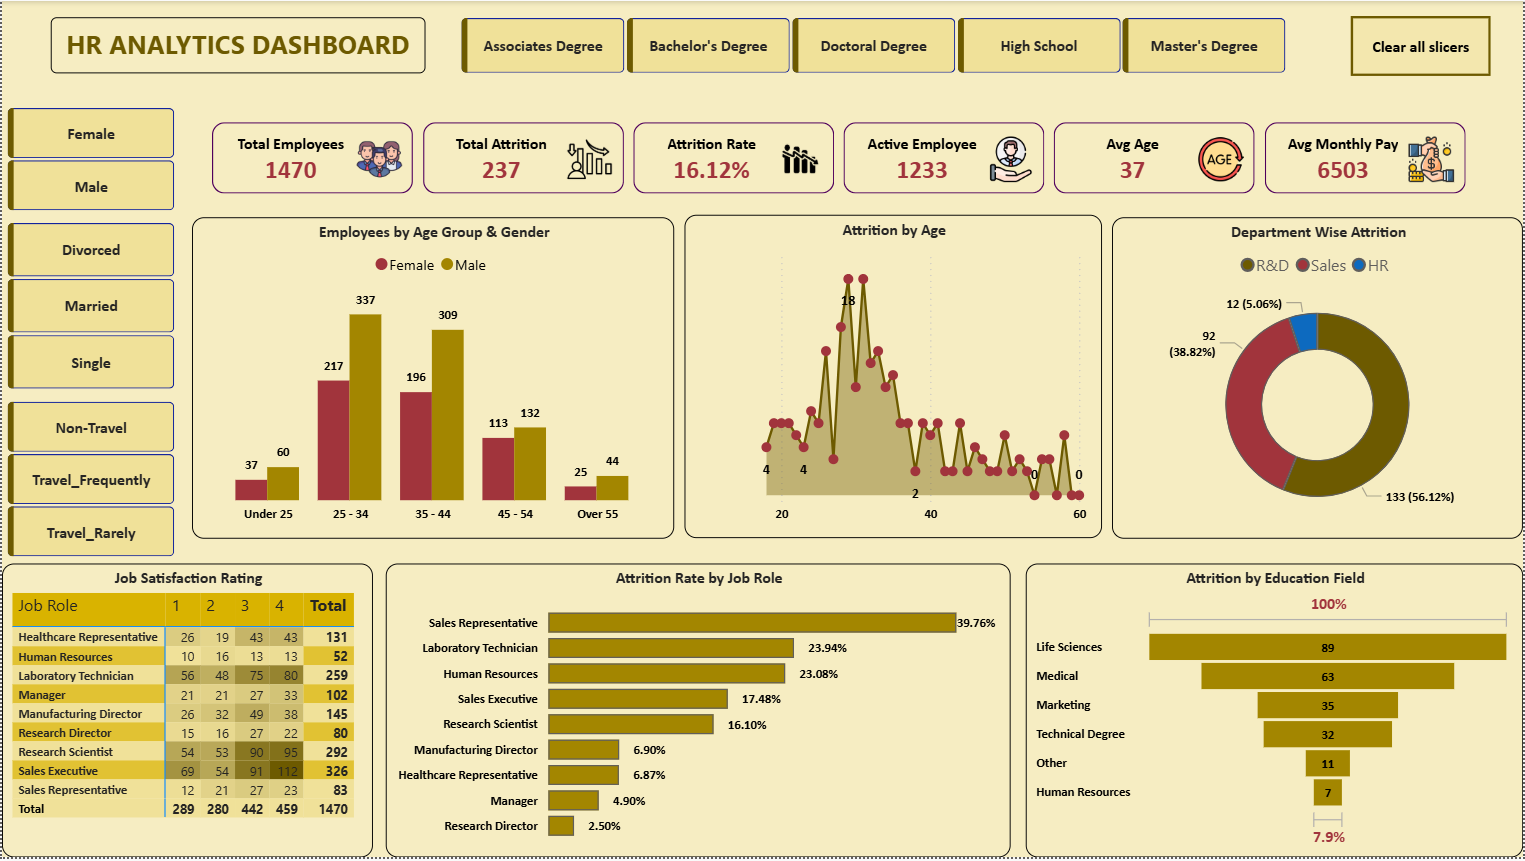

What the dashboard file says about the page in this screenshot:
{"tool":"powerbi","page":{"name":"Dashboard","canvas":[1280,720],"ordinal":0},"visuals":[{"type":"cardVisual","fields":{"Data":["HR data.Total Employees","HR data.Total Attrition","HR data.Attrition Rate","HR data.Active Employee","Avg(HR data.Age)","Avg(HR data.Monthly Income)"]},"box":[159.8,85.2,1092.4,94.6],"z":0},{"type":"clusteredColumnChart","title":"Employees by Age Group & Gender","fields":{"Category":["HR data.Age Group"],"Y":["HR data.Total Employees"],"Series":["HR data.Gender"]},"box":[159.8,181.9,405.8,270.2],"z":1000},{"type":"areaChart","title":"Attrition by Age","fields":{"Category":["HR data.Age"],"Y":["HR data.Total Attrition"]},"box":[574.1,179.8,351.2,272.3],"z":2000},{"type":"donutChart","title":"Department Wise Attrition","fields":{"Category":["HR data.Department"],"Y":["HR data.Total Attrition"]},"box":[933.6,181.9,345.9,270.2],"z":3000},{"type":"clusteredBarChart","fields":{"Category":["HR data.Job Role"],"Y":["HR data.Attrition Rate"]},"box":[322.8,473.1,525.7,247.1],"z":4000},{"type":"pivotTable","title":"Job Satisfaction Rating","fields":{"Rows":["HR data.Job Role"],"Columns":["HR data.Job Satisfaction"],"Values":["HR data.Total Employees"]},"box":[0,473.1,312.3,247.1],"z":5000},{"type":"funnel","title":"Attrition by Education Field","fields":{"Category":["HR data.Education Field"],"Y":["HR data.Total Attrition"]},"box":[861.1,473.1,418.5,247.1],"z":6000},{"type":"advancedSlicerVisual","fields":{"Values":["HR data.Gender"]},"box":[0,85.2,150.4,96.7],"z":7000},{"type":"advancedSlicerVisual","fields":{"Values":["HR data.Marital Status"]},"box":[0,181.9,150.4,150.4],"z":8000},{"type":"advancedSlicerVisual","fields":{"Values":["HR data.Business Travel"]},"box":[0,332.2,150.4,140.9],"z":9000},{"type":"advancedSlicerVisual","fields":{"Values":["HR data.Education"]},"box":[381.7,9.5,705.5,56.8],"z":10000},{"type":"actionButton","box":[1134.5,12.6,117.8,50.5],"z":11000},{"type":"textbox","box":[41,13.7,315.4,47.3],"z":12000}]}

Visuals, with their boxes in screenshot pixels (x1, y1, x2, y2), scaled from the page's 1280x720 canvas onto the 1525x861 screenshot:
cardVisual - HR data.Total Employees x HR data.Total Attrition: 190:102:1492:215
"Employees by Age Group & Gender" clusteredColumnChart: 190:218:674:541
"Attrition by Age" areaChart: 684:215:1102:541
"Department Wise Attrition" donutChart: 1112:218:1524:541
clusteredBarChart - HR data.Job Role x HR data.Attrition Rate: 385:566:1011:860
"Job Satisfaction Rating" pivotTable: 0:566:372:860
"Attrition by Education Field" funnel: 1026:566:1524:860
advancedSlicerVisual - HR data.Gender: 0:102:179:218
advancedSlicerVisual - HR data.Marital Status: 0:218:179:397
advancedSlicerVisual - HR data.Business Travel: 0:397:179:566
advancedSlicerVisual - HR data.Education: 455:11:1295:79
actionButton: 1352:15:1492:75
textbox: 49:16:425:73
